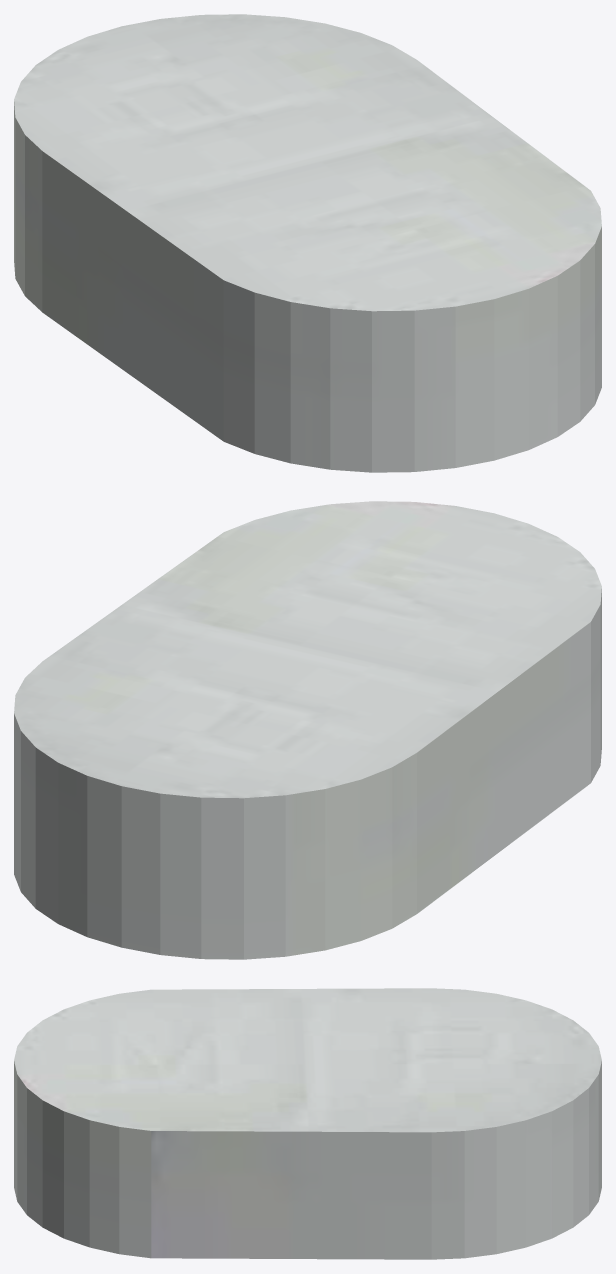
The picture shows the model from 3 angles, top to bottom: view 1: azimuth 30°, elevation 25°; view 2: azimuth 150°, elevation 25°; view 3: azimuth 270°, elevation 25°; orthographic projection. The views are drawn at different scales.
Visible parts, largest first — view 1: 圓柱體; view 2: 圓柱體; view 3: 圓柱體.
Part boxes in pixels (bbox=[...]): 圓柱體: bbox=[14, 14, 601, 472]; 圓柱體: bbox=[14, 501, 601, 959]; 圓柱體: bbox=[14, 988, 601, 1259].
Size of the model in its own units: 1.7 by 0.7007 by 2.93.
1 material, 1 textured.
